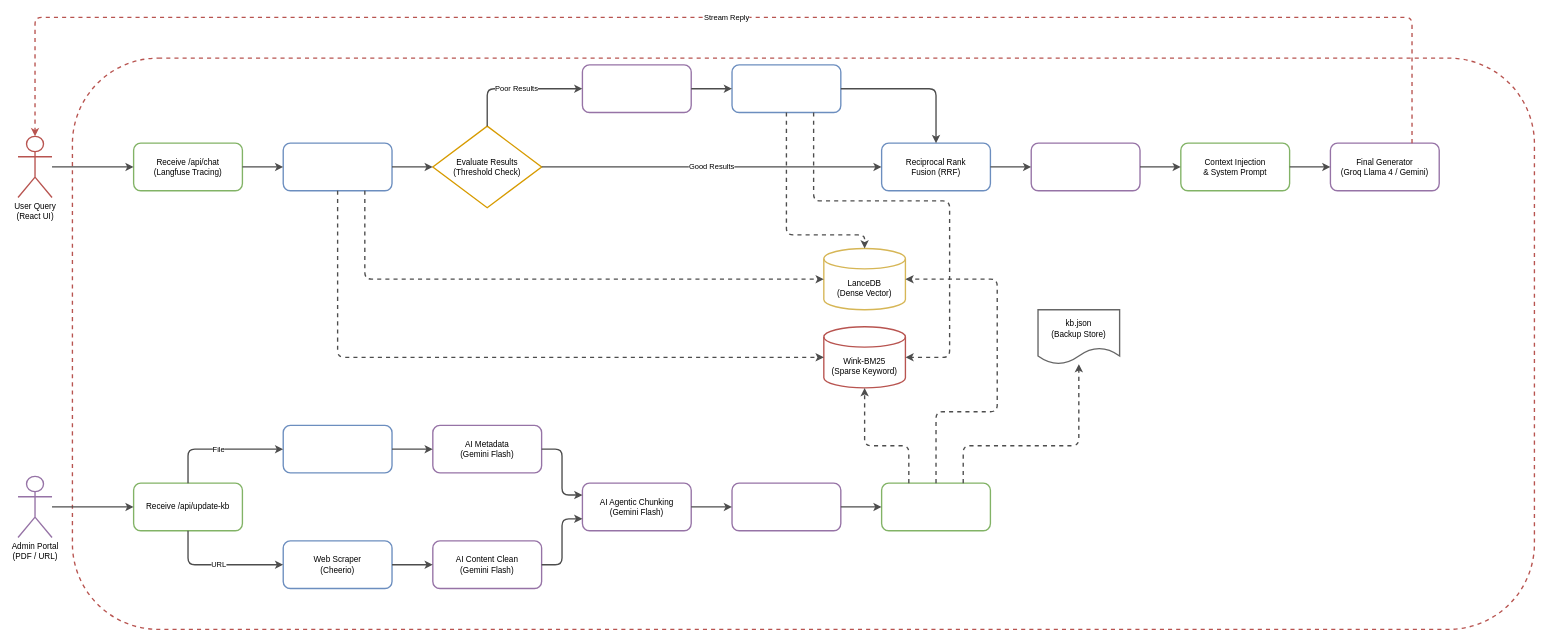
The diagram is 1547 pixels wide and 641 high, and some of its shapes have lost their labels. Each missing label, with the box of its shape:
Index & Store: (881, 482, 991, 531)
Initial Hybrid Search (Dense + BM25): (282, 142, 392, 191)
LLM Query Rewrite (Groq Llama 3.1): (581, 64, 692, 113)
LLM Reranker (Groq Llama 3.1): (1030, 142, 1140, 191)
PDFLoader (LangChain): (282, 424, 392, 473)
Re-Search (LanceDB+BM25): (731, 64, 841, 113)
Vectorization (Gemini Embeddings 2): (731, 482, 841, 531)
